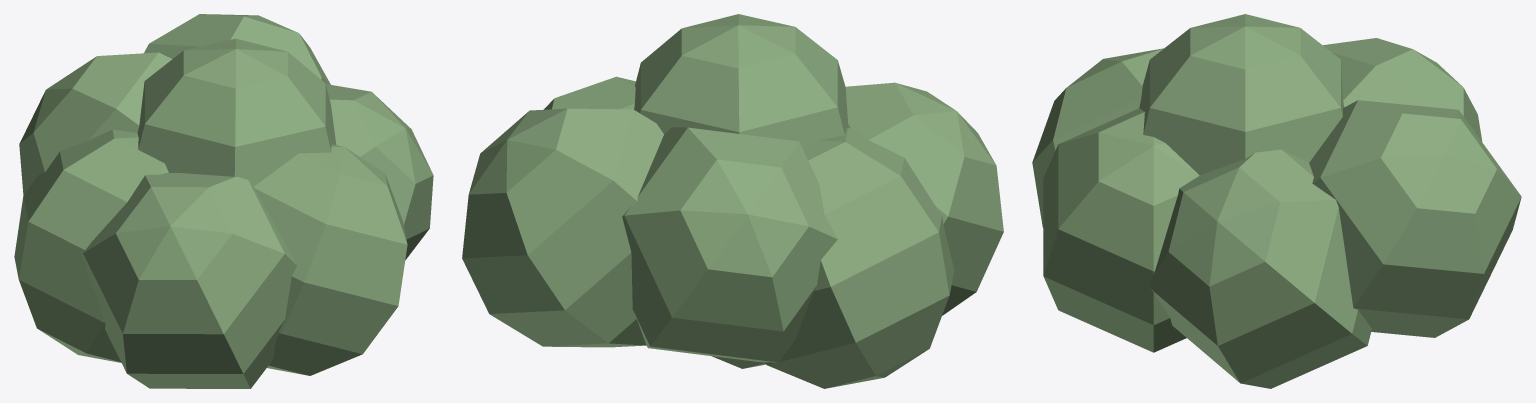
Rendered from lowpoly bush.fbx.
3 renders of one model, left to right at view 1: azimuth 30°, elevation 25°; view 2: azimuth 150°, elevation 25°; view 3: azimuth 270°, elevation 25°, orthographic. The views are drawn at different scales.
Parts seen in each view (by area): view 1: pSphere246; view 2: pSphere246; view 3: pSphere246.
Boxes of the visible parts, x1,y1,x2,y2 form: pSphere246: [14, 14, 433, 388]; pSphere246: [462, 14, 1003, 388]; pSphere246: [1032, 14, 1521, 388].
Size of the model in its own units: 60.61 by 42.49 by 61.68.
